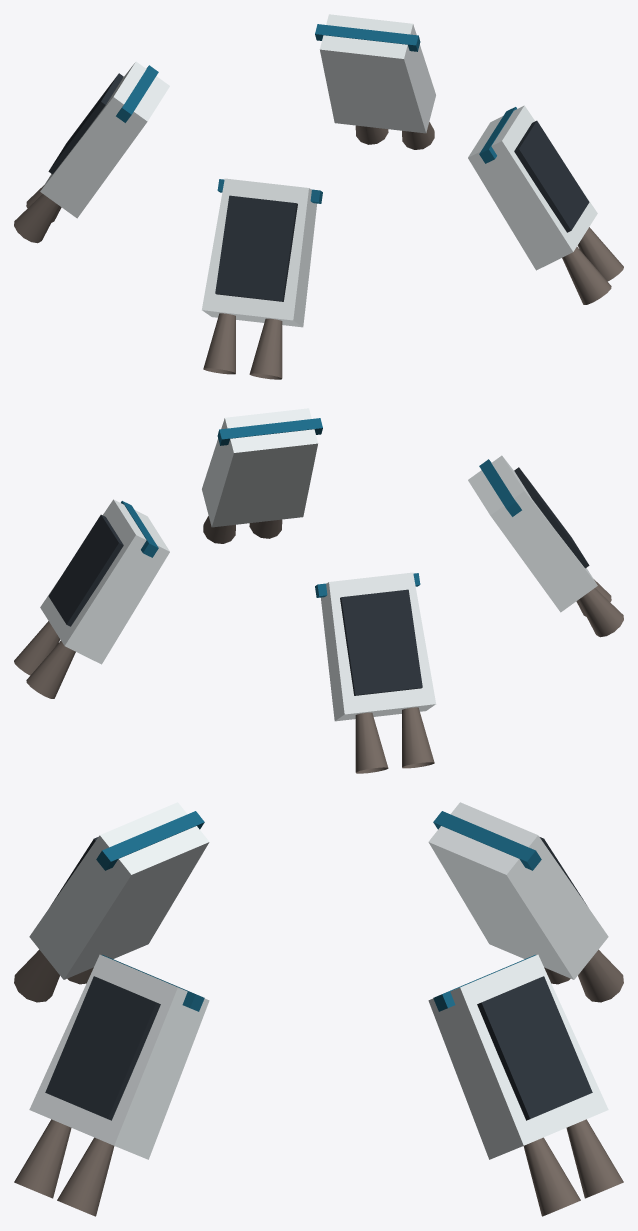
Rendered from les_integrated_pusher.glb.
3 renders of one model, top to bottom at view 1: azimuth 30°, elevation 25°; view 2: azimuth 150°, elevation 25°; view 3: azimuth 270°, elevation 25°, orthographic. The views are drawn at different scales.
Visible parts, largest first — view 1: les_integrated_pusher_mesh; view 2: les_integrated_pusher_mesh; view 3: les_integrated_pusher_mesh.
Part boxes in pixels (<box>): les_integrated_pusher_mesh: <box>14,14,623,379</box>; les_integrated_pusher_mesh: <box>14,408,623,773</box>; les_integrated_pusher_mesh: <box>14,802,623,1216</box>.
Size of the model in its own units: 4.83 by 1.78 by 4.83.
